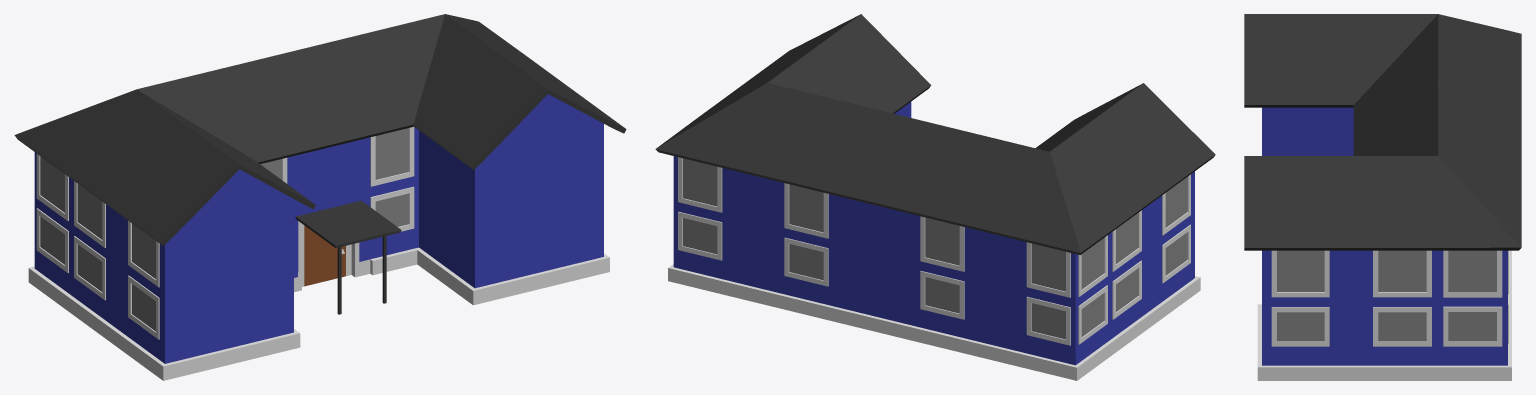
File: house2_1.fbx
3 views of the same model, side by side, from view 1: azimuth 30°, elevation 25°; view 2: azimuth 150°, elevation 25°; view 3: azimuth 270°, elevation 25° (orthographic). The views are drawn at different scales.
Parts seen in each view (by area): view 1: Plane.001; view 2: Plane.001; view 3: Plane.001.
Part boxes in pixels (left/top/right/bottom): Plane.001: left=14, top=14, right=626, bottom=380; Plane.001: left=655, top=14, right=1215, bottom=380; Plane.001: left=1244, top=14, right=1521, bottom=380.
Bounding box in the file's own units: 1443 × 607 × 789.
